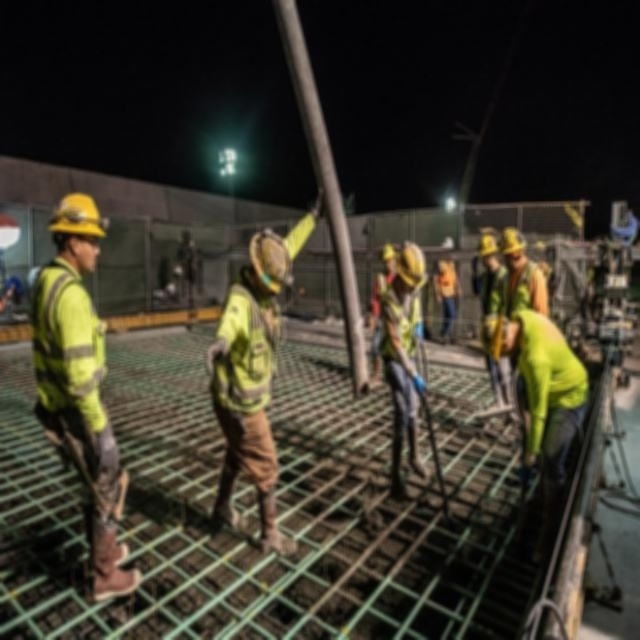Con_Casco: (53, 192, 106, 259), (397, 241, 428, 295)
Con_Chaleco: (30, 269, 109, 416), (213, 288, 282, 410)
